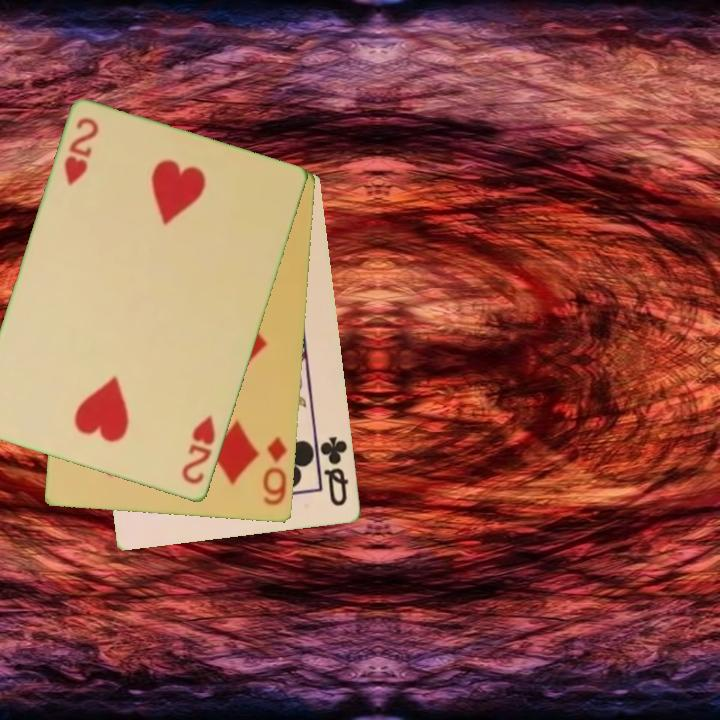2h: (178, 412, 219, 488), (61, 114, 102, 189)
6d: (259, 434, 290, 509)
Qc: (317, 433, 352, 510)
